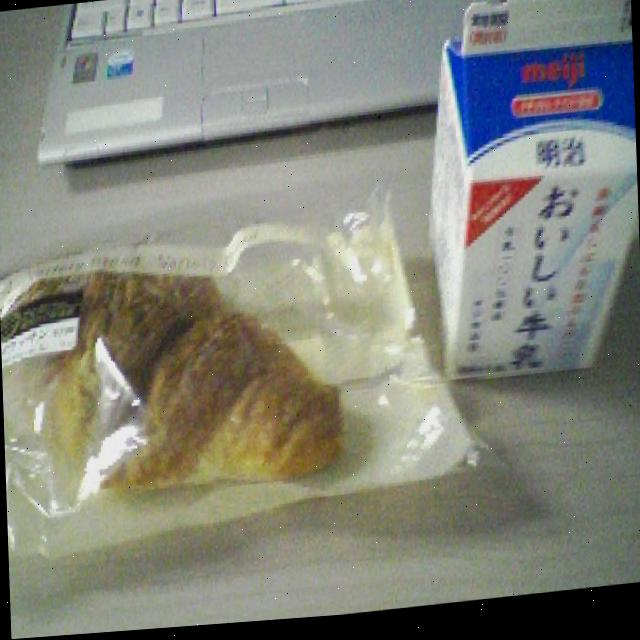面包点心: (0, 219, 379, 511)
